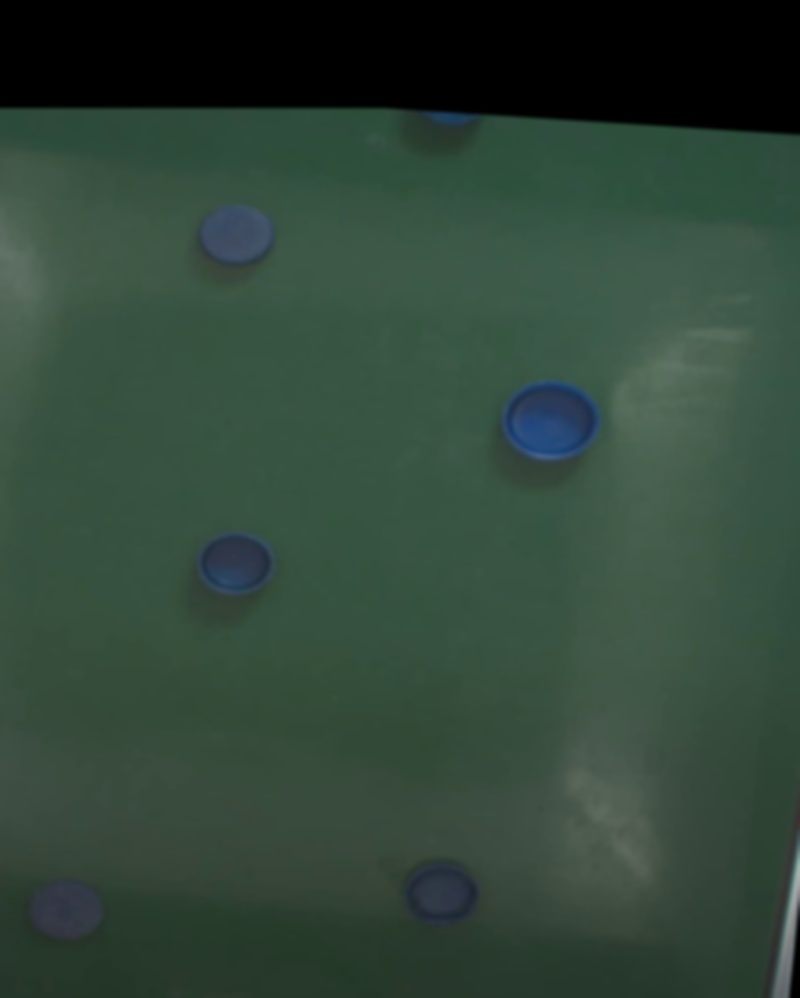Dark Blue: (498, 377, 604, 464), (400, 858, 482, 929), (195, 530, 278, 599), (25, 877, 108, 944), (196, 202, 278, 268)
